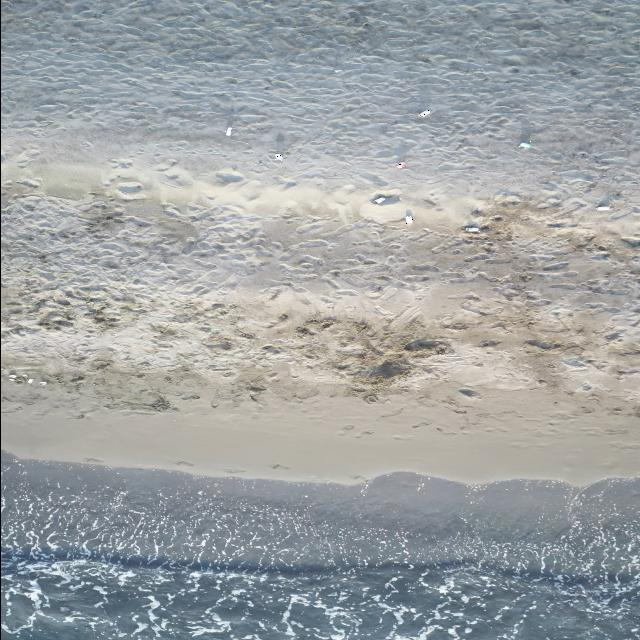Garbage: (404, 340, 452, 353), (595, 192, 620, 211), (524, 339, 560, 348), (462, 221, 488, 232), (372, 194, 399, 203), (596, 196, 611, 211), (620, 236, 639, 247), (457, 387, 479, 396), (464, 224, 479, 232), (417, 108, 431, 116), (404, 209, 412, 223), (520, 140, 531, 148), (372, 196, 384, 203), (273, 152, 283, 160), (472, 207, 482, 215), (596, 203, 609, 209), (395, 160, 406, 167), (226, 126, 231, 136), (9, 373, 15, 379), (27, 377, 32, 384), (40, 380, 45, 384)
